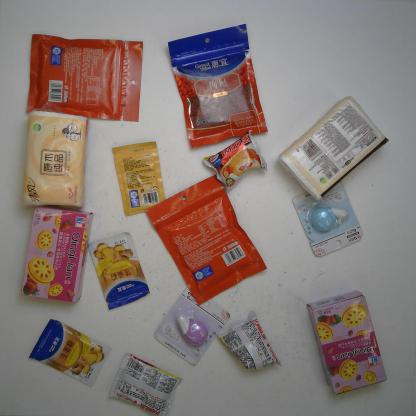Dessert: (305, 289, 388, 396), (18, 204, 94, 304), (108, 351, 184, 415), (215, 309, 284, 373), (202, 128, 270, 192)
Dried Fruit: (144, 172, 268, 308), (166, 21, 270, 151), (25, 32, 144, 124)
Seasoner: (28, 318, 113, 389), (86, 231, 150, 313), (111, 140, 167, 218)
Stationery: (152, 284, 232, 369), (292, 179, 364, 257)
Tissue: (276, 94, 390, 204), (20, 110, 90, 210)
